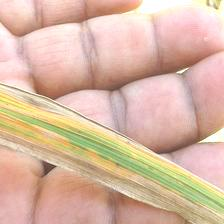2 BacterialBlight: (3, 82, 180, 209)
